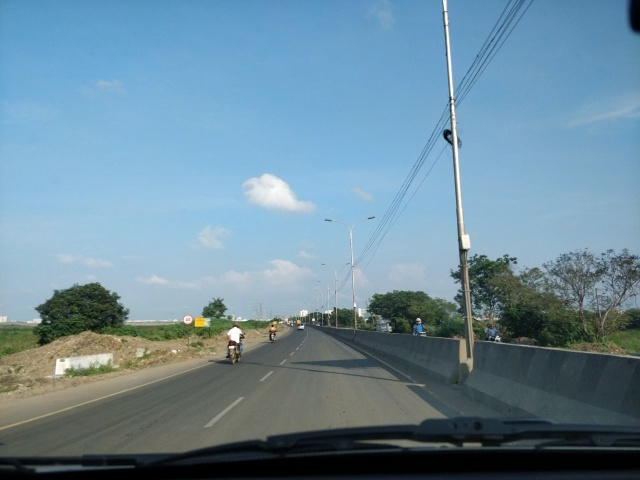bus: (366, 311, 394, 345), (374, 316, 392, 329)
car: (297, 322, 310, 331)
motorbike: (221, 324, 248, 364), (483, 320, 503, 359), (414, 319, 433, 353), (484, 319, 501, 340), (411, 320, 432, 336), (267, 321, 280, 343)
